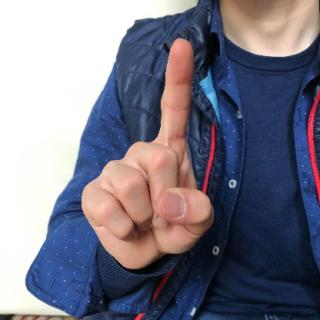BAA: (78, 38, 218, 270)
